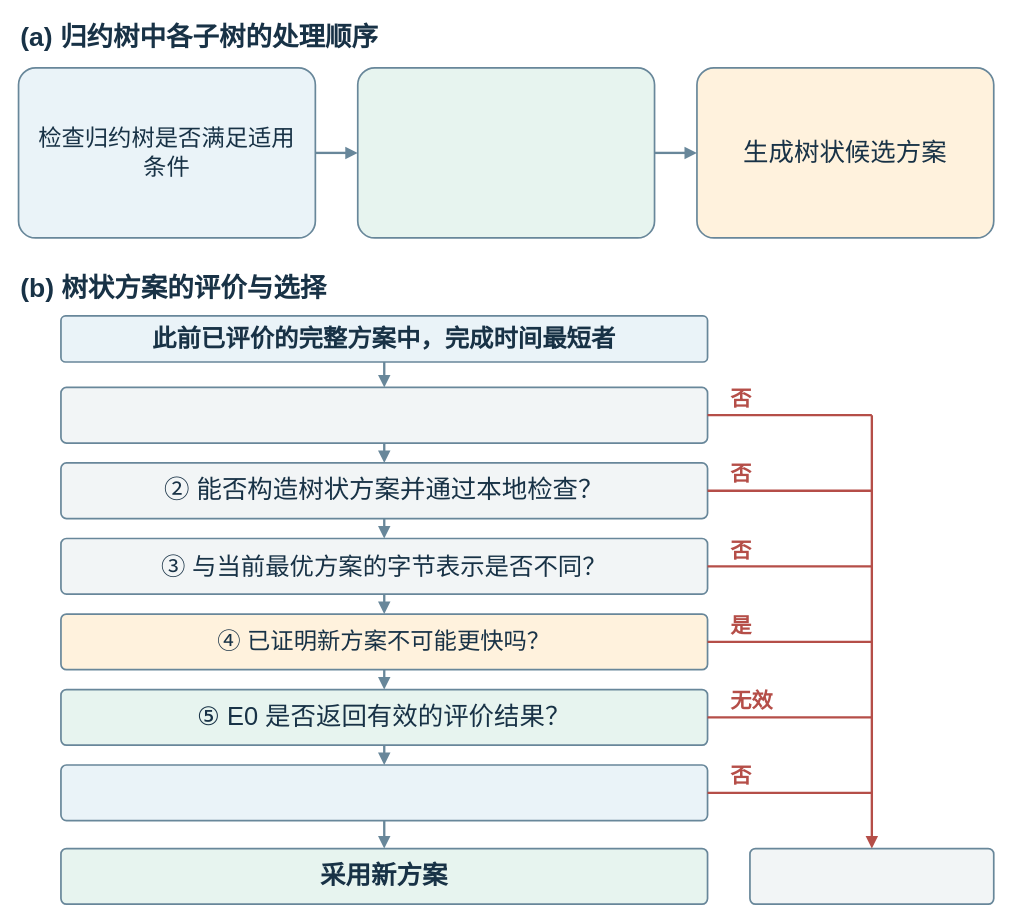
Some shapes in this 1013 by 923 pixel diagram are drawn without their labels. Here are the shapes that lost their labels. From the top down, the box of each, then its label:
(356, 66, 655, 238): 按 hᵢ − rᵢ 从大到小处理同一父操作的各子树
(60, 386, 708, 443): ① E0 调用次数是否少于 3 次？
(60, 764, 708, 821): ⑥ 新方案的完成时间是否严格更短？
(749, 847, 994, 904): 保留当前最优方案
